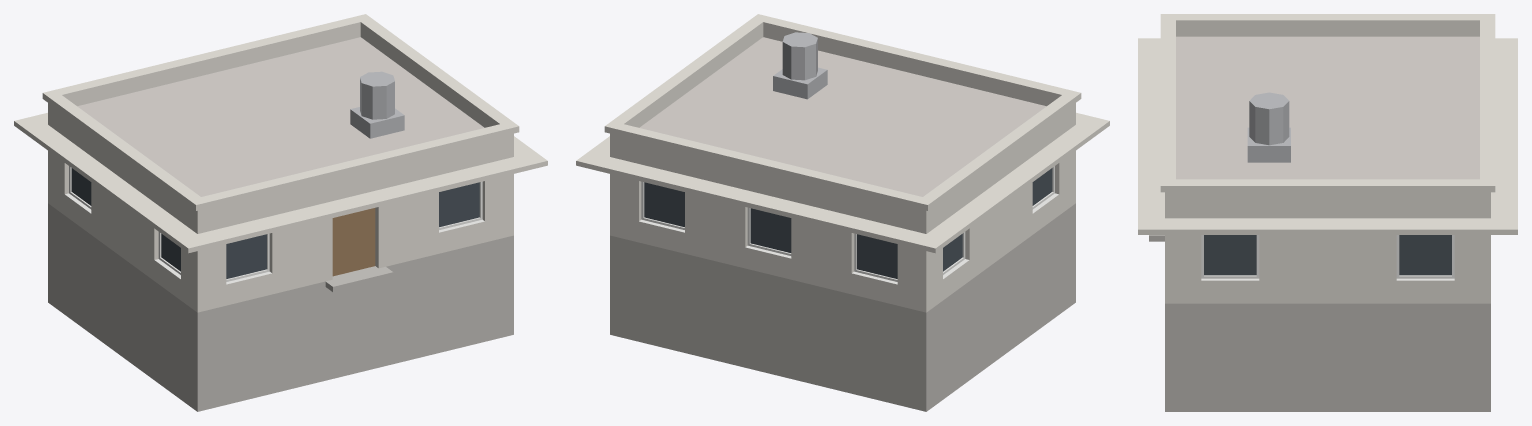
The model's file is tropical_flat_1_m.glb.
3 renders of one model, left to right at view 1: azimuth 30°, elevation 25°; view 2: azimuth 150°, elevation 25°; view 3: azimuth 270°, elevation 25°, orthographic. The views are drawn at different scales.
Visible parts, largest first — view 1: tropical_flat_1_m; view 2: tropical_flat_1_m; view 3: tropical_flat_1_m.
Part boxes in pixels (x1,y1,x2,y2): tropical_flat_1_m: (14,14,547,411); tropical_flat_1_m: (576,14,1109,411); tropical_flat_1_m: (1138,14,1517,411).
Size of the model in its own units: 12.5 by 8.05 by 10.5.
